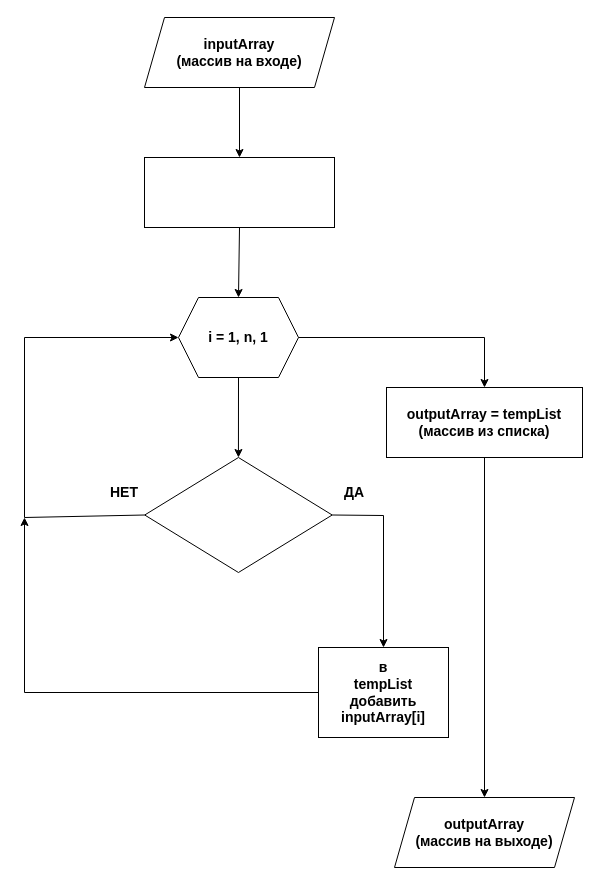
This 600x885 diagram has some shape labels left out. Here are the shapes that lost their labels. From the top down, the centre of each, then its label:
point 239,192: tempList (временный список)
point 238,514: inputArray[i] >= 3
